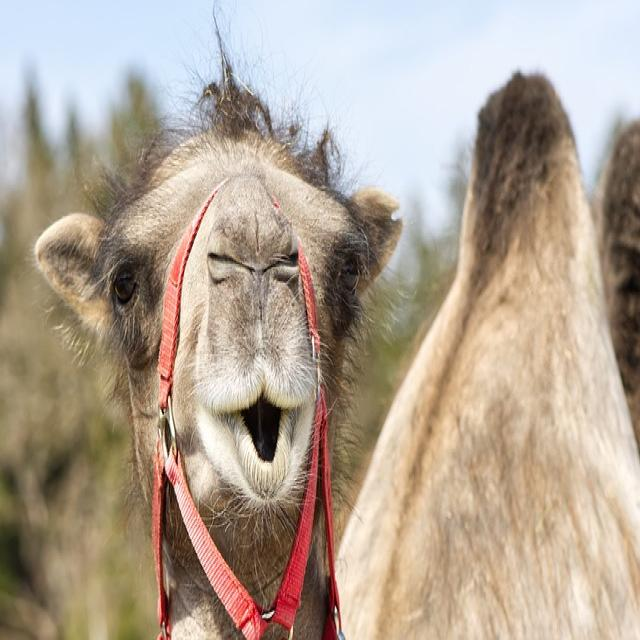Herbivorous: (35, 85, 639, 640)
